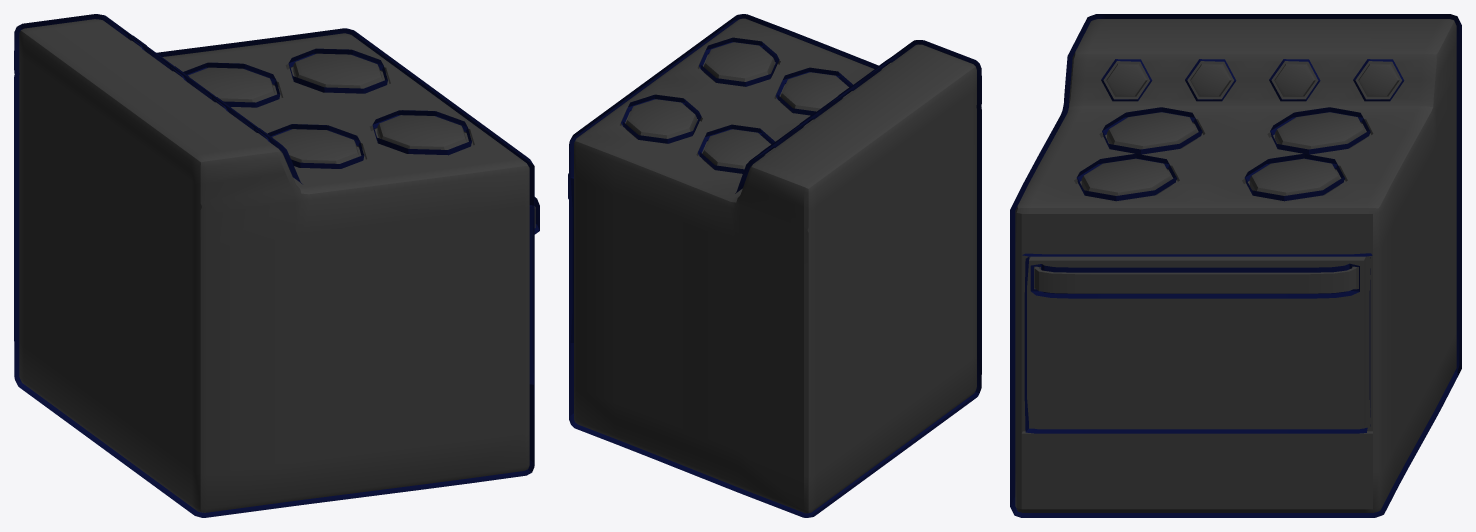
3 views of the same model, side by side, from view 1: azimuth 30°, elevation 25°; view 2: azimuth 150°, elevation 25°; view 3: azimuth 270°, elevation 25° (orthographic). The views are drawn at different scales.
Visible parts, largest first — view 1: Oven; view 2: Oven; view 3: Oven.
Part boxes in pixels (left/top/right/bottom): Oven: left=14, top=14, right=539, bottom=517; Oven: left=568, top=14, right=981, bottom=517; Oven: left=1010, top=14, right=1461, bottom=517.
Size of the model in its own units: 0.8408 by 0.9064 by 1.02.
